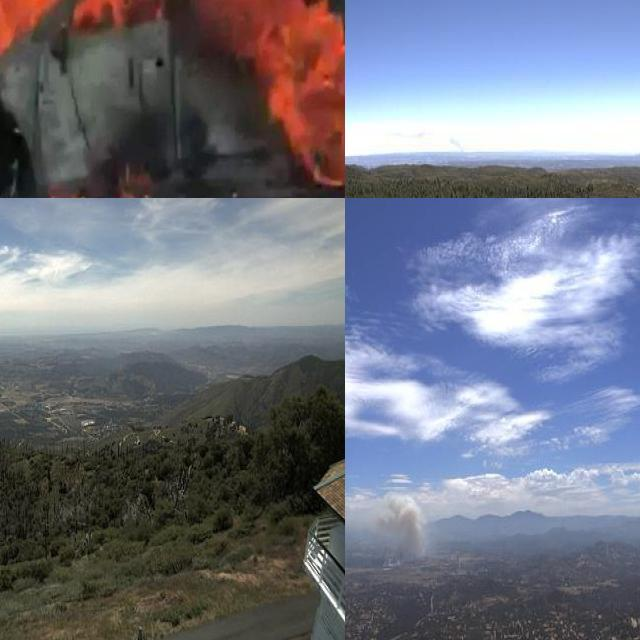fire: (0, 0, 345, 198)
smoke: (345, 487, 431, 565), (442, 136, 469, 163)
